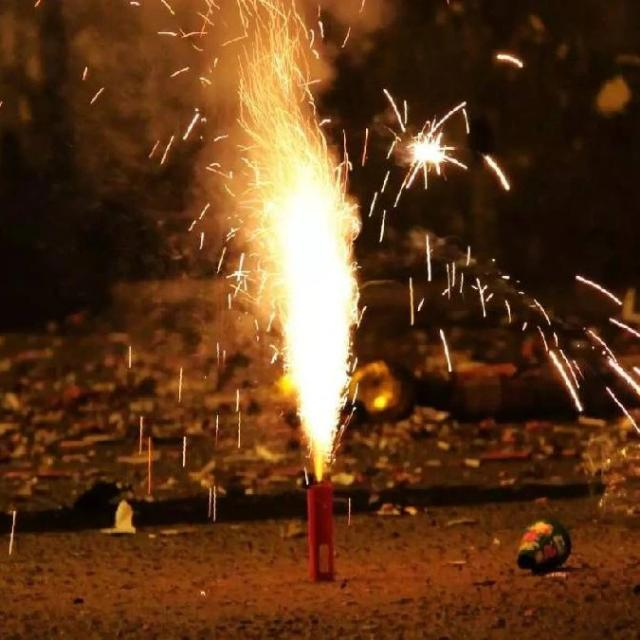fire: (243, 0, 359, 479), (411, 122, 442, 174)
